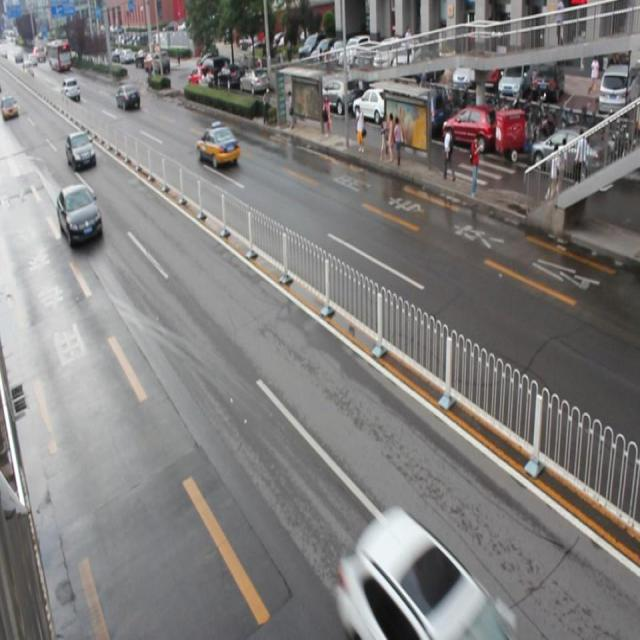car: (340, 511, 516, 640), (58, 183, 102, 246), (196, 124, 240, 169), (65, 129, 96, 172), (116, 84, 141, 112)
